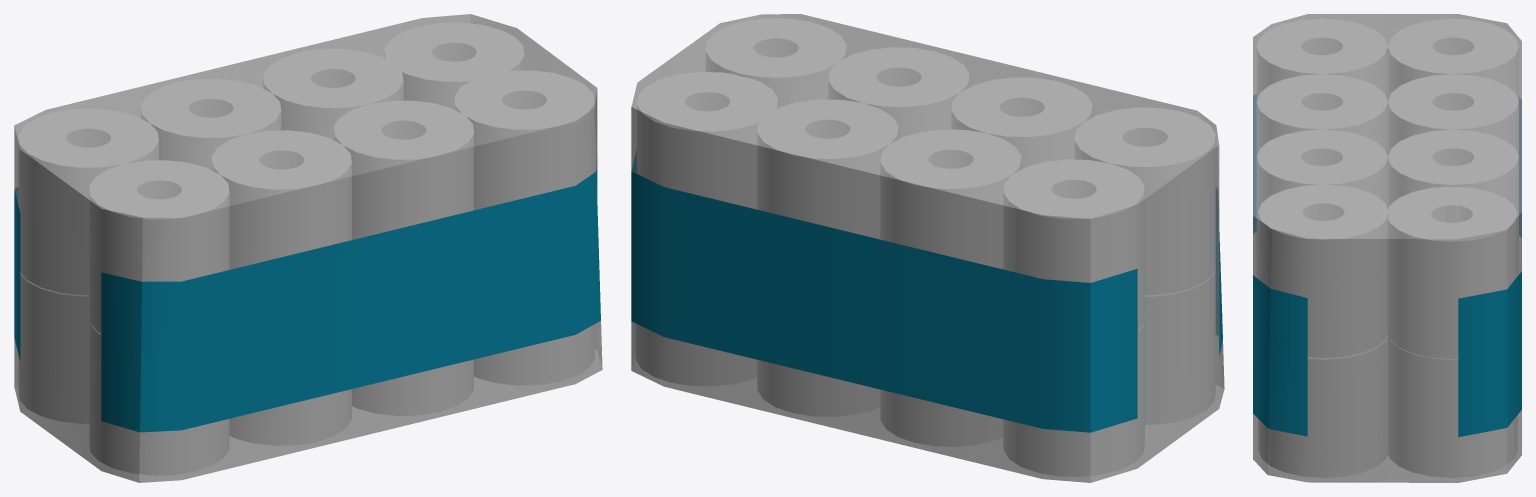
The model's file is toilet_paper.fbx.
3 renders of one model, left to right at view 1: azimuth 30°, elevation 25°; view 2: azimuth 150°, elevation 25°; view 3: azimuth 270°, elevation 25°, orthographic. The views are drawn at different scales.
Parts seen in each view (by area): view 1: tp_wrap, tp_roll5, tp_roll4, tp_roll6, tp_roll7, tp_roll8, tp_roll9, tp_roll1, tp_roll3, tp_roll2, tp_roll10, tp_roll15 (+2 smaller); view 2: tp_wrap, tp_roll4, tp_roll5, tp_roll1, tp_roll3, tp_roll2, tp_roll10, tp_roll7, tp_roll6, tp_roll8, tp_roll9, tp_roll12 (+2 smaller); view 3: tp_wrap, tp_roll8, tp_roll2, tp_roll14, tp_roll16, tp_roll1, tp_roll6, tp_roll3, tp_roll7, tp_roll5, tp_roll4.
Boxes of the visible parts, x1,y1,x2,y2 form: tp_wrap: [14, 14, 602, 482]; tp_roll5: [89, 160, 229, 332]; tp_roll4: [19, 109, 158, 294]; tp_roll6: [334, 101, 473, 239]; tp_roll7: [212, 130, 351, 269]; tp_roll8: [454, 70, 594, 209]; tp_roll9: [19, 273, 88, 423]; tp_roll1: [263, 49, 403, 139]; tp_roll3: [141, 79, 280, 169]; tp_roll2: [384, 23, 524, 108]; tp_roll10: [89, 319, 229, 475]; tp_roll15: [230, 389, 351, 445]; tp_wrap: [631, 14, 1224, 482]; tp_roll4: [1003, 159, 1144, 328]; tp_roll5: [1075, 107, 1215, 294]; tp_roll1: [757, 99, 898, 239]; tp_roll3: [880, 129, 1021, 268]; tp_roll2: [637, 72, 777, 209]; tp_roll10: [1145, 267, 1215, 424]; tp_roll7: [951, 77, 1092, 168]; tp_roll6: [828, 47, 969, 138]; tp_roll8: [706, 18, 846, 107]; tp_roll9: [1003, 319, 1144, 476]; tp_roll12: [880, 390, 1002, 446]; tp_wrap: [1253, 14, 1521, 482]; tp_roll8: [1258, 185, 1388, 357]; tp_roll2: [1388, 187, 1517, 358]; tp_roll14: [1258, 335, 1387, 477]; tp_roll16: [1388, 336, 1517, 477]; tp_roll1: [1388, 130, 1518, 274]; tp_roll6: [1257, 130, 1387, 277]; tp_roll3: [1388, 74, 1518, 155]; tp_roll7: [1257, 74, 1387, 155]; tp_roll5: [1257, 19, 1387, 100]; tp_roll4: [1388, 19, 1518, 100].
Bounding box in the file's own units: 1.58 × 0.7947 × 0.7947.
